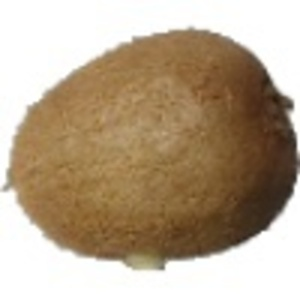kiwi: (1, 27, 300, 274)
